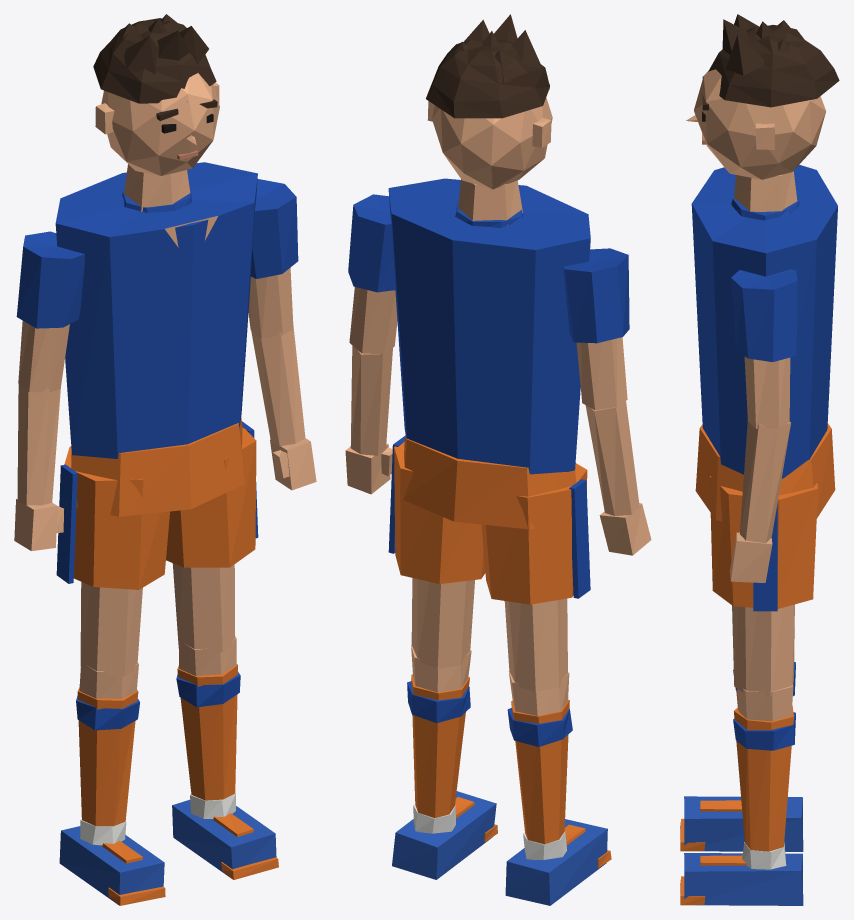
File: player.glb
3 views of the same model, side by side, from view 1: azimuth 30°, elevation 25°; view 2: azimuth 150°, elevation 25°; view 3: azimuth 270°, elevation 25° (orthographic).
Parts seen in each view (by area): view 1: Torso_shirt, Hips_shorts, LegR_shorts, Head_skin, Head_hair, LegL_shorts, KneeR_sock, KneeL_sock, ShoulderR_shirt, LegR_skin, LegL_skin, ElbowR_skin (+18 smaller); view 2: Torso_shirt, Head_hair, Hips_shorts, LegR_shorts, Head_skin, LegL_shorts, ShoulderR_shirt, LegR_skin, KneeR_sock, KneeL_sock, LegL_skin, FootR_boot (+16 smaller); view 3: Torso_shirt, Head_skin, Head_hair, LegL_shorts, ShoulderL_shirt, KneeL_sock, FootL_boot, LegL_skin, ElbowL_skin, Hips_shorts, FootR_boot, ShoulderL_skin (+8 smaller).
Boxes of the visible parts, bbox=[...] form: Torso_shirt: bbox=[55, 162, 257, 458]; Hips_shorts: bbox=[71, 418, 245, 516]; LegR_shorts: bbox=[64, 446, 169, 589]; Head_skin: bbox=[95, 73, 219, 175]; Head_hair: bbox=[93, 14, 217, 120]; LegL_shorts: bbox=[166, 427, 256, 567]; KneeR_sock: bbox=[77, 687, 138, 826]; KneeL_sock: bbox=[177, 664, 237, 800]; ShoulderR_shirt: bbox=[16, 231, 84, 328]; LegR_skin: bbox=[80, 582, 142, 676]; LegL_skin: bbox=[172, 563, 235, 652]; ElbowR_skin: bbox=[17, 384, 60, 505]; Torso_shirt: bbox=[388, 178, 590, 474]; Head_hair: bbox=[426, 14, 549, 118]; Hips_shorts: bbox=[403, 435, 576, 529]; LegR_shorts: bbox=[481, 463, 587, 604]; Head_skin: bbox=[427, 98, 552, 189]; LegL_shorts: bbox=[394, 442, 485, 583]; ShoulderR_shirt: bbox=[563, 248, 629, 343]; LegR_skin: bbox=[504, 598, 567, 691]; KneeR_sock: bbox=[511, 699, 569, 844]; KneeL_sock: bbox=[411, 674, 469, 818]; LegL_skin: bbox=[411, 578, 474, 668]; FootR_boot: bbox=[505, 819, 607, 905]; Torso_shirt: bbox=[691, 164, 837, 478]; Head_skin: bbox=[686, 69, 826, 179]; Head_hair: bbox=[702, 14, 839, 110]; LegL_shorts: bbox=[709, 476, 817, 608]; ShoulderL_shirt: bbox=[731, 269, 797, 361]; KneeL_sock: bbox=[734, 705, 793, 851]; FootL_boot: bbox=[684, 853, 803, 905]; LegL_skin: bbox=[732, 604, 794, 696]; ElbowL_skin: bbox=[740, 420, 790, 542]; Hips_shorts: bbox=[695, 423, 835, 521]; FootR_boot: bbox=[684, 796, 803, 851]; ShoulderL_skin: bbox=[744, 356, 790, 428].
Size of the model in its own units: 0.687 by 1.94 by 0.3291.
